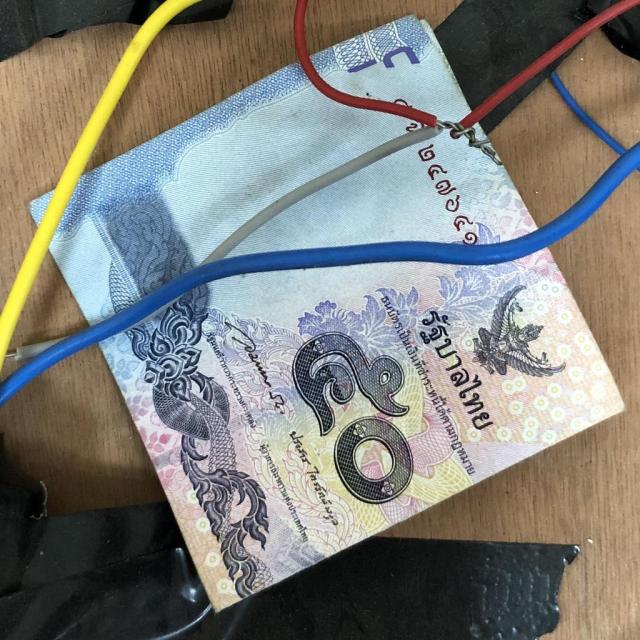THAI50: (101, 249, 622, 609), (50, 64, 418, 324), (227, 133, 534, 258), (312, 16, 469, 119)
